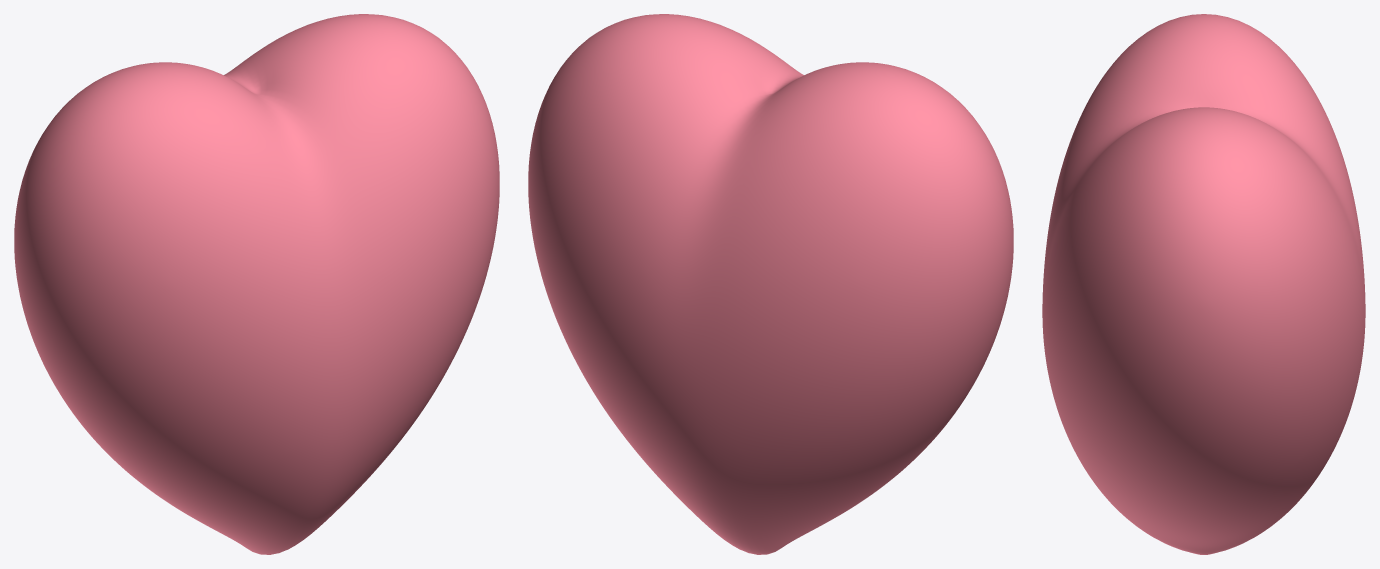
Rendered from heart--chrome.glb.
3 renders of one model, left to right at view 1: azimuth 30°, elevation 25°; view 2: azimuth 150°, elevation 25°; view 3: azimuth 270°, elevation 25°, orthographic. The views are drawn at different scales.
Parts seen in each view (by area): view 1: Heart; view 2: Heart; view 3: Heart.
Boxes of the visible parts, box(x1,y1,x2,y2) form: Heart: box(14, 14, 499, 554); Heart: box(528, 14, 1013, 554); Heart: box(1042, 14, 1365, 554).
Bounding box in the file's own units: 0.9424 × 1 × 0.6086.
